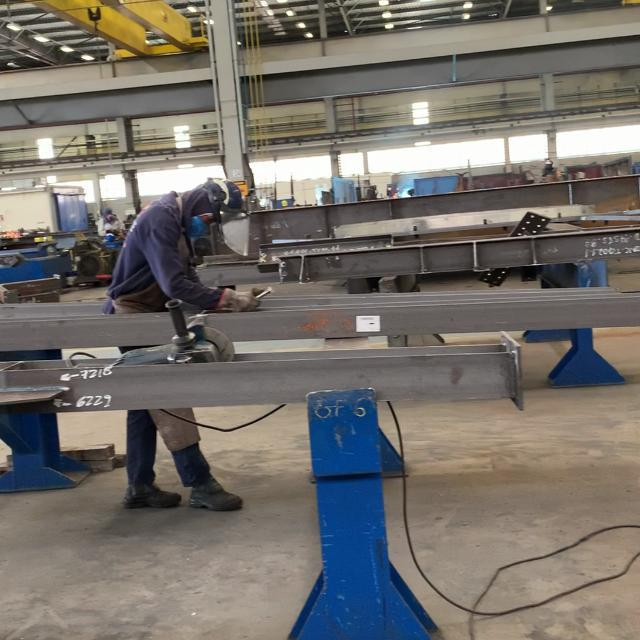face-shield: (220, 290, 267, 310)
glove: (200, 181, 243, 218)
mask: (107, 179, 265, 515)
safety-shoe: (187, 482, 242, 516), (123, 485, 182, 513)
